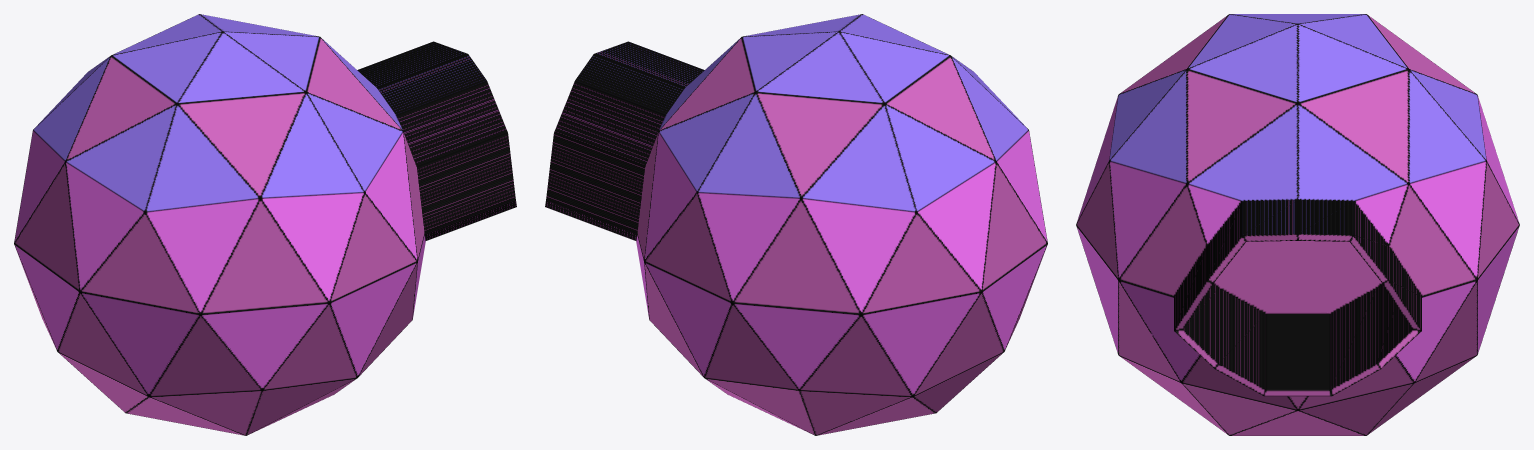
Rendered from enemyA.obj.
3 renders of one model, left to right at view 1: azimuth 30°, elevation 25°; view 2: azimuth 150°, elevation 25°; view 3: azimuth 270°, elevation 25°, orthographic. The views are drawn at different scales.
Visible parts, largest first — view 1: ICO球; view 2: ICO球; view 3: ICO球.
Part boxes in pixels (left/top/right/bottom): ICO球: left=14, top=14, right=516, bottom=435; ICO球: left=545, top=14, right=1047, bottom=435; ICO球: left=1076, top=14, right=1519, bottom=435.
Bounding box in the file's own units: 2.34 × 2 × 2.
1 material, 1 textured.
